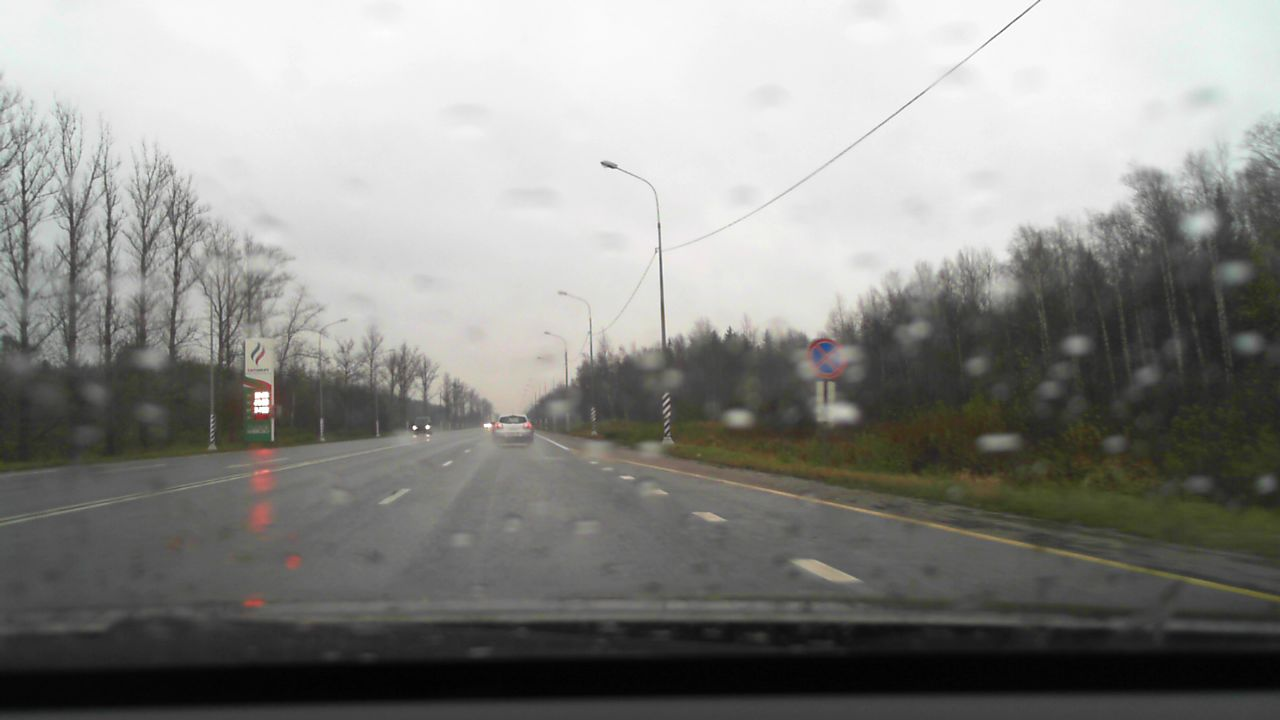No Parking: (805, 338, 847, 380)
